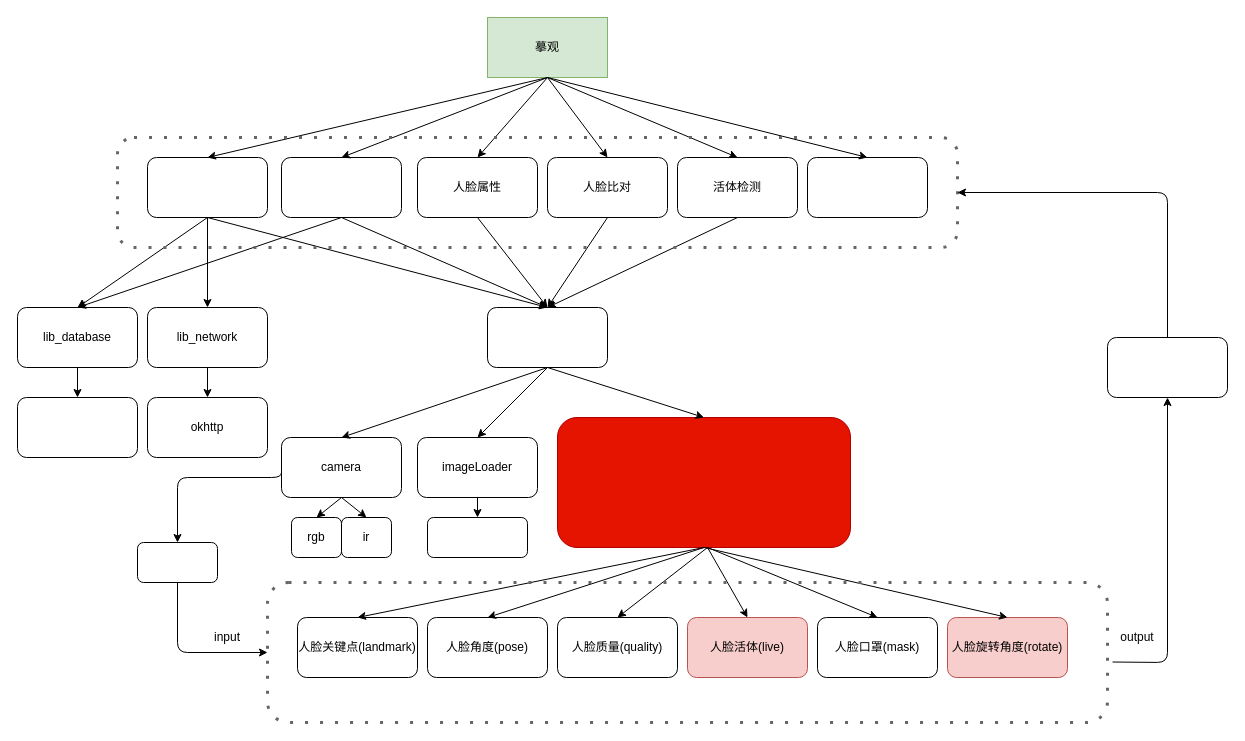
Image size: 1245x741. Some labels were removed from this diagram. The centre of each missing label's shape, as x and y in pixels:
"data_rotate" belongs at point 177,562.
"data_service" belongs at point 1167,367.
"gliide" belongs at point 477,537.
"lib_common" belongs at point 547,337.
"mit_utils" belongs at point 703,482.
"x_utils_db" belongs at point 77,427.
"人脸搜索" belongs at point 341,187.
"人脸通行" belongs at point 207,187.
"设置" belongs at point 867,187.
